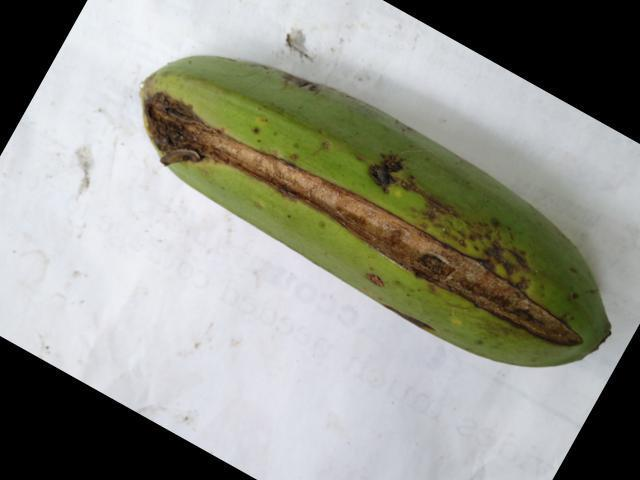rotten: (140, 54, 631, 383)
